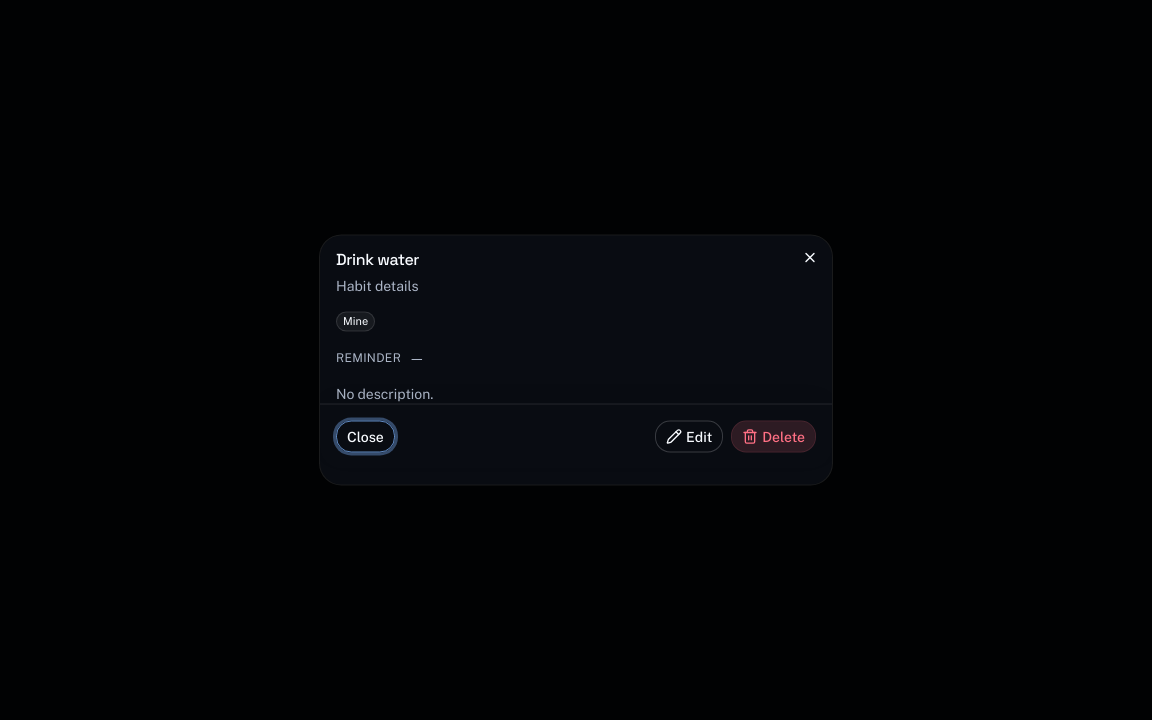
Test: HabitTemplateDetailDialog — the scope fork › states that deleting the library habit leaves assignments alone
The width and height of the screenshot is (1152, 720).
Click the button "Delete" at [774, 436], box [731,420,816,452]
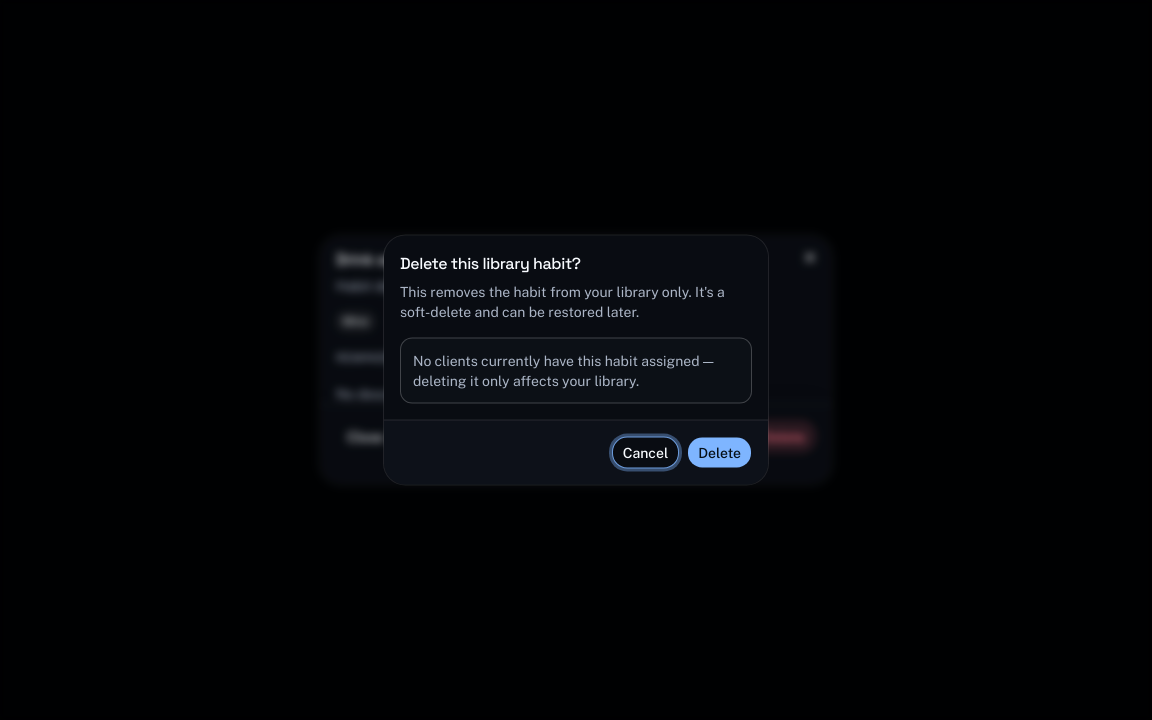
Expected: the text "deleting it only affects your library" is shown, [413,352,713,388]
